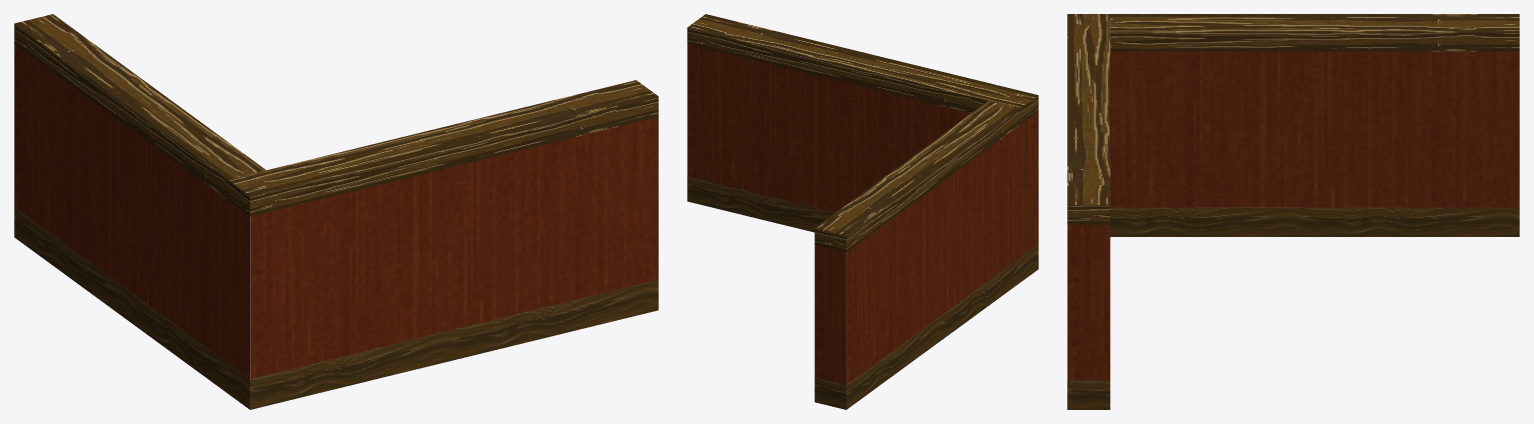
The model's file is SM_Wall_Low_Corner_L.fbx.
The picture shows the model from 3 angles, left to right: view 1: azimuth 30°, elevation 25°; view 2: azimuth 150°, elevation 25°; view 3: azimuth 270°, elevation 25°; orthographic projection. The views are drawn at different scales.
Visible parts, largest first — view 1: SM_Wall_Low_Corner_L; view 2: SM_Wall_Low_Corner_L; view 3: SM_Wall_Low_Corner_L.
Boxes of the visible parts, <box> form: SM_Wall_Low_Corner_L: <box>14,14,658,409</box>; SM_Wall_Low_Corner_L: <box>687,14,1038,409</box>; SM_Wall_Low_Corner_L: <box>1067,14,1519,409</box>.
Bounding box in the file's own units: 2.1 × 1.05 × 2.1.
